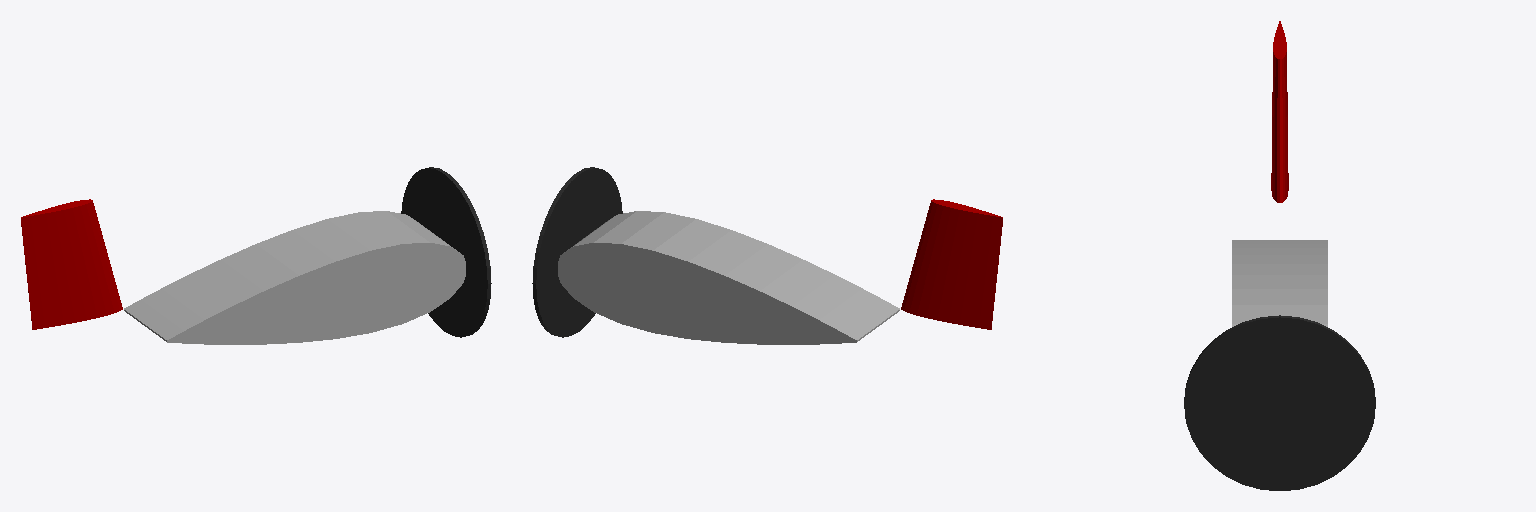
URDF robot description (drone_param):
<?xml version='1.0' encoding='utf-8'?>
<robot name="drone_param">
  <material name="grey">
    <color rgba="0.7 0.7 0.7 1" />
    </material>
  <material name="red">
    <color rgba="0.7 0 0 1" />
    </material>
  <material name="black">
    <color rgba="0.2 0.2 0.2 1" />
    </material>
  <link name="root_link">
    <inertial>
      <origin xyz="0 0 0" rpy="0 0 0" />
      <mass value="0" />
      <inertia ixx="0" ixy="0" ixz="0" iyy="0" iyz="0" izz="0" />
      </inertial>
    </link>
  <link name="fuselage">
    <inertial>
      <origin xyz="-0.2 0 -0.04" rpy="0 0 0" />
      <mass value="0.383814" />
      <inertia ixx="0.000841514" ixy="0" ixz="0" iyy="0.00102492" iyz="0" izz="0.000400406" />
      </inertial>
    <collision name="fuselage_collision_0">
      <origin xyz="-0.2 0 0.00245565348607" rpy="-1.5898372930676048 6.123233995736766e-17 -1.5707963267948968" />
      <geometry>
        <box size="0.025 0.0261920094864 0.1" />
        </geometry>
      </collision>
    <visual name="fuselage_visual_0">
      <origin xyz="0 0 0" rpy="0 0 0" />
      <geometry>
        <mesh filename="package://meshes/fuselage_only.stl" scale="0.000533415 0.001 0.001" />
        </geometry>
      <material name="grey" />
      </visual>
    </link>
  <joint name="fixed_joint_base_fuselage" type="fixed">
    <parent link="root_link" />
    <child link="fuselage" />
    <origin xyz="0 0 0" rpy="3.141592653589793 0 0" />
    </joint>
  <joint name="fixed_joint_aero_frame_fuselage" type="fixed">
    <parent link="fuselage" />
    <child link="aero_frame_fuselage" />
    <origin xyz="-0.2 0 -0.03" rpy="0 3.141592653589793 0" />
    </joint>
  <link name="aero_frame_fuselage">
    <inertial>
      <origin xyz="0 0 0" rpy="0 0 0" />
      <mass value="0" />
      <inertia ixx="0" ixy="0" ixz="0" iyy="0" iyz="0" izz="0" />
      </inertial>
    </link>
  <joint name="fixed_joint_prop_frame_fuselage_0" type="fixed">
    <parent link="fuselage" />
    <child link="prop_frame_fuselage_0" />
    <origin xyz="0 0 0" rpy="3.141592653589793 -1.5707963267948966 0" />
    </joint>
  <link name="prop_frame_fuselage_0">
    <inertial>
      <origin xyz="0 0 0" rpy="0 0 0" />
      <mass value="0.0314159" />
      <inertia ixx="6.28711e-05" ixy="0" ixz="0" iyy="6.28711e-05" iyz="0" izz="0.000125664" />
      </inertial>
    <visual name="prop_frame_fuselage_0_visual_0">
      <origin xyz="0 0 0" rpy="0 0 0" />
      <geometry>
        <cylinder radius="0.1" length="0.005" />
        </geometry>
      <material name="black" />
      </visual>
    <collision name="prop_frame_collision">
      <origin xyz="0 0 0" rpy="0 0 0" />
      <geometry>
        <box size="0.2 0.2 0.02" />
        </geometry>
      </collision>
    </link>
  <joint name="fixed_joint_right_wing" type="fixed">
    <parent link="fuselage" />
    <child link="fuselage_right_0" />
    <origin xyz="-0.15 0.05 -0.03" rpy="0 0 3.141592653589793" />
    </joint>
  <link name="fuselage_right_0">
    <inertial>
      <origin xyz="0 0 0" rpy="0 0 0" />
      <mass value="0.1" />
      <inertia ixx="3.22642e-06" ixy="0" ixz="0" iyy="3.22642e-06" iyz="0" izz="3.22642e-06" />
      </inertial>
    </link>
  <link name="fuselage_right_1">
    <inertial>
      <origin xyz="0 0 0" rpy="0 0 0" />
      <mass value="0.1" />
      <inertia ixx="3.22642e-06" ixy="0" ixz="0" iyy="3.22642e-06" iyz="0" izz="3.22642e-06" />
      </inertial>
    </link>
  <joint name="joint_0_sweep_right_wing" type="revolute">
    <parent link="fuselage_right_0" />
    <child link="fuselage_right_1" />
    <origin xyz="0 0 0" rpy="0 0 0" />
    <axis xyz="0 0 1" />
    <limit lower="-0.28" upper="0.28" effort="3" velocity="3.665191429" />
    <dynamics damping="0.2" friction="0.05" />
    </joint>
  <joint name="joint_1_twist_right_wing" type="revolute">
    <parent link="fuselage_right_1" />
    <child link="right_wing" />
    <origin xyz="0 -0.05 0" rpy="0 0 0" />
    <axis xyz="0 1 0" />
    <limit lower="-0.35" upper="0.35" effort="1.2" velocity="3.665191429" />
    <dynamics damping="0.2" friction="0.05" />
    </joint>
  <link name="right_wing">
    <inertial>
      <origin xyz="0 0 0" rpy="0 0 0" />
      <mass value="0" />
      <inertia ixx="0" ixy="0" ixz="0" iyy="0" iyz="0" izz="0" />
      </inertial>
    <visual name="right_wing_visual">
      <origin xyz="0.00285714 0 0" rpy="0 0 0" />
      <geometry>
        <mesh filename="package://meshes/wing0009.stl" scale="0.2 0.500029 0.142857" />
        </geometry>
      <material name="red" />
      </visual>
    </link>
  <joint name="fixed_joint_right_wing_prop" type="fixed">
    <parent link="right_wing" />
    <child link="right_wing_prop" />
    <origin xyz="0 -0.025 0" rpy="0 0 0" />
    </joint>
  <link name="right_wing_prop">
    <inertial>
      <origin xyz="0.02142855 0 0" rpy="0 0 0" />
      <mass value="0.00256603" />
      <inertia ixx="2.93915e-06" ixy="0" ixz="0" iyy="3.62149e-07" iyz="0" izz="2.65979e-06" />
      </inertial>
    <collision name="right_wing_prop_collision">
      <origin xyz="0.03571425 0 -0.000421042" rpy="1.570796327 -1.558922022 0" />
      <geometry>
        <box size="0.017962225 0.142857 0.05" />
        </geometry>
      </collision>
    </link>
  <joint name="fixed_joint_aero_frame_right_wing_prop" type="fixed">
    <parent link="right_wing_prop" />
    <child link="aero_frame_right_wing_prop" />
    <origin xyz="0.02142855 0 0" rpy="3.141592654 0 0" />
    </joint>
  <link name="aero_frame_right_wing_prop">
    <inertial>
      <origin xyz="0 0 0" rpy="0 0 0" />
      <mass value="0" />
      <inertia ixx="0" ixy="0" ixz="0" iyy="0" iyz="0" izz="0" />
      </inertial>
    </link>
  <joint name="fixed_joint_right_wing_free" type="fixed">
    <parent link="right_wing" />
    <child link="right_wing_free" />
    <origin xyz="0 -0.275 0" rpy="0 0 0" />
    </joint>
  <link name="right_wing_free">
    <inertial>
      <origin xyz="0.02142855 0 0" rpy="0 0 0" />
      <mass value="0.0230943" />
      <inertia ixx="0.000257395" ixy="0" ixz="0" iyy="0.000234202" iyz="0" izz="2.39381e-05" />
      </inertial>
    <collision name="right_wing_free_collision">
      <origin xyz="0.03571425 0 -0.000421042" rpy="1.570796327 -1.558922022 0" />
      <geometry>
        <box size="0.017962225 0.142857 0.45" />
        </geometry>
      </collision>
    </link>
  <joint name="fixed_joint_aero_frame_right_wing_free" type="fixed">
    <parent link="right_wing_free" />
    <child link="aero_frame_right_wing_free" />
    <origin xyz="0.02142855 0 0" rpy="3.141592654 0 0" />
    </joint>
  <link name="aero_frame_right_wing_free">
    <inertial>
      <origin xyz="0 0 0" rpy="0 0 0" />
      <mass value="0" />
      <inertia ixx="0" ixy="0" ixz="0" iyy="0" iyz="0" izz="0" />
      </inertial>
    </link>
  <joint name="fixed_joint_left_wing" type="fixed">
    <parent link="fuselage" />
    <child link="fuselage_left_0" />
    <origin xyz="-0.15 -0.05 -0.03" rpy="-0 0 3.141592653589793" />
    </joint>
  <link name="fuselage_left_0">
    <inertial>
      <origin xyz="0 0 0" rpy="0 0 0" />
      <mass value="0.1" />
      <inertia ixx="3.22642e-06" ixy="0" ixz="0" iyy="3.22642e-06" iyz="0" izz="3.22642e-06" />
      </inertial>
    </link>
  <link name="fuselage_left_1">
    <inertial>
      <origin xyz="0 0 0" rpy="0 0 0" />
      <mass value="0.1" />
      <inertia ixx="3.22642e-06" ixy="0" ixz="0" iyy="3.22642e-06" iyz="0" izz="3.22642e-06" />
      </inertial>
    </link>
  <joint name="joint_0_sweep_left_wing" type="revolute">
    <parent link="fuselage_left_0" />
    <child link="fuselage_left_1" />
    <origin xyz="0 0 0" rpy="0 0 0" />
    <axis xyz="0 0 1" />
    <limit lower="-0.28" upper="0.28" effort="3" velocity="3.665191429" />
    <dynamics damping="0.2" friction="0.05" />
    </joint>
  <joint name="joint_1_twist_left_wing" type="revolute">
    <parent link="fuselage_left_1" />
    <child link="left_wing" />
    <origin xyz="0 0.05 0" rpy="0 0 0" />
    <axis xyz="0 1 0" />
    <limit lower="-0.35" upper="0.35" effort="1.2" velocity="3.665191429" />
    <dynamics damping="0.2" friction="0.05" />
    </joint>
  <link name="left_wing">
    <inertial>
      <origin xyz="0 0 0" rpy="0 0 0" />
      <mass value="0" />
      <inertia ixx="0" ixy="0" ixz="0" iyy="0" iyz="0" izz="0" />
      </inertial>
    <visual name="left_wing_visual">
      <origin xyz="0.00285714 0 0" rpy="3.141592654 0 0" />
      <geometry>
        <mesh filename="package://meshes/wing0009.stl" scale="0.2 0.500029 0.142857" />
        </geometry>
      <material name="red" />
      </visual>
    </link>
  <joint name="fixed_joint_left_wing_prop" type="fixed">
    <parent link="left_wing" />
    <child link="left_wing_prop" />
    <origin xyz="0 0.025 0" rpy="0 0 0" />
    </joint>
  <link name="left_wing_prop">
    <inertial>
      <origin xyz="0.02142855 0 0" rpy="0 0 0" />
      <mass value="0.00256603" />
      <inertia ixx="2.93915e-06" ixy="0" ixz="0" iyy="3.62149e-07" iyz="0" izz="2.65979e-06" />
      </inertial>
    <collision name="left_wing_prop_collision">
      <origin xyz="0.03571425 0 -0.000421042" rpy="1.570796327 -1.558922022 0" />
      <geometry>
        <box size="0.017962225 0.142857 0.05" />
        </geometry>
      </collision>
    </link>
  <joint name="fixed_joint_aero_frame_left_wing_prop" type="fixed">
    <parent link="left_wing_prop" />
    <child link="aero_frame_left_wing_prop" />
    <origin xyz="0.02142855 0 0" rpy="3.141592654 0 0" />
    </joint>
  <link name="aero_frame_left_wing_prop">
    <inertial>
      <origin xyz="0 0 0" rpy="0 0 0" />
      <mass value="0" />
      <inertia ixx="0" ixy="0" ixz="0" iyy="0" iyz="0" izz="0" />
      </inertial>
    </link>
  <joint name="fixed_joint_left_wing_free" type="fixed">
    <parent link="left_wing" />
    <child link="left_wing_free" />
    <origin xyz="0 0.275 0" rpy="0 0 0" />
    </joint>
  <link name="left_wing_free">
    <inertial>
      <origin xyz="0.02142855 0 0" rpy="0 0 0" />
      <mass value="0.0230943" />
      <inertia ixx="0.000257395" ixy="0" ixz="0" iyy="0.000234202" iyz="0" izz="2.39381e-05" />
      </inertial>
    <collision name="left_wing_free_collision">
      <origin xyz="0.03571425 0 -0.000421042" rpy="1.570796327 -1.558922022 0" />
      <geometry>
        <box size="0.017962225 0.142857 0.45" />
        </geometry>
      </collision>
    </link>
  <joint name="fixed_joint_aero_frame_left_wing_free" type="fixed">
    <parent link="left_wing_free" />
    <child link="aero_frame_left_wing_free" />
    <origin xyz="0.02142855 0 0" rpy="3.141592654 0 0" />
    </joint>
  <link name="aero_frame_left_wing_free">
    <inertial>
      <origin xyz="0 0 0" rpy="0 0 0" />
      <mass value="0" />
      <inertia ixx="0" ixy="0" ixz="0" iyy="0" iyz="0" izz="0" />
      </inertial>
    </link>
  <joint name="elevator_pitch_joint" type="revolute">
    <parent link="fuselage" />
    <child link="elevator_hinge" />
    <origin xyz="-0.43 0 0" rpy="0 0 0" />
    <axis xyz="0 1 0" />
    <limit lower="-0.35" upper="0.35" effort="1.0" velocity="3.665191429" />
    <dynamics damping="0.2" friction="0.05" />
    </joint>
  <link name="elevator_hinge">
    <inertial>
      <origin xyz="0 0 0" rpy="0 0 0" />
      <mass value="0" />
      <inertia ixx="0" ixy="0" ixz="0" iyy="0" iyz="0" izz="0" />
      </inertial>
    <visual>
      <origin xyz="0 0 0" rpy="0 0 0" />
      <geometry>
        <mesh filename="package://meshes/elevator.stl" scale="0.0007 0.001372 0.0011111" />
        </geometry>
      <material name="grey" />
      </visual>
    </link>
  <joint name="fixed_joint_elevator_left" type="fixed">
    <parent link="elevator_hinge" />
    <child link="elevator_left" />
    <origin xyz="0 0.1 0" rpy="0 0 0" />
    </joint>
  <link name="elevator_left">
    <inertial>
      <origin xyz="0.0496 0 0" rpy="0 0 0" />
      <mass value="0.00433816" />
      <inertia ixx="7.72193e-06" ixy="0" ixz="0" iyy="2.20895e-06" iyz="0" izz="5.59271e-06" />
      </inertial>
    <collision>
      <origin xyz="-0.04 0 -0.0226291863" rpy="1.5763749568 -1.5318707859 3.1359944429" />
      <geometry>
        <box size="0.0135567616 0.16 0.1" />
        </geometry>
      </collision>
    </link>
  <joint name="fixed_joint_aero_frame_elevator_left" type="fixed">
    <parent link="elevator_left" />
    <child link="aero_frame_elevator_left" />
    <origin xyz="-0.0496 0 0" rpy="0 3.141592654 0" />
    </joint>
  <link name="aero_frame_elevator_left">
    <inertial>
      <origin xyz="0 0 0" rpy="0 0 0" />
      <mass value="0" />
      <inertia ixx="0" ixy="0" ixz="0" iyy="0" iyz="0" izz="0" />
      </inertial>
    </link>
  <joint name="fixed_joint_elevator_right" type="fixed">
    <parent link="elevator_hinge" />
    <child link="elevator_right" />
    <origin xyz="0 -0.1 0" rpy="0 0 0" />
    </joint>
  <link name="elevator_right">
    <inertial>
      <origin xyz="0.0496 0 0" rpy="0 0 0" />
      <mass value="0.00433816" />
      <inertia ixx="7.72193e-06" ixy="0" ixz="0" iyy="2.20895e-06" iyz="0" izz="5.59271e-06" />
      </inertial>
    <collision>
      <origin xyz="-0.04 0 -0.0226291863" rpy="1.5763749568 -1.5318707859 3.1359944429" />
      <geometry>
        <box size="0.0135567616 0.16 0.1" />
        </geometry>
      </collision>
    </link>
  <joint name="fixed_joint_aero_frame_elevator_right" type="fixed">
    <parent link="elevator_right" />
    <child link="aero_frame_elevator_right" />
    <origin xyz="-0.0496 0 0" rpy="0 3.141592654 0" />
    </joint>
  <link name="aero_frame_elevator_right">
    <inertial>
      <origin xyz="0 0 0" rpy="0 0 0" />
      <mass value="0" />
      <inertia ixx="0" ixy="0" ixz="0" iyy="0" iyz="0" izz="0" />
      </inertial>
    </link>
  <joint name="rudder_yaw_joint" type="revolute">
    <parent link="elevator_hinge" />
    <child link="rudder" />
    <origin xyz="0 0 0" rpy="0 0 0" />
    <axis xyz="0 0 1" />
    <limit lower="-0.35" upper="0.35" effort="1.0" velocity="3.665191429" />
    <dynamics damping="0.2" friction="0.05" />
    </joint>
  <link name="rudder">
    <inertial>
      <origin xyz="-0.0496 0 -0.08" rpy="0 0 0" />
      <mass value="0.00694106" />
      <inertia ixx="1.77691e-05" ixy="0" ixz="0" iyy="8.94834e-06" iyz="0" izz="8.94834e-06" />
      </inertial>
    <collision name="rudder_collision_0">
      <origin xyz="-0.04 0 -0.104994470816" rpy="0.10626955814138643 0.008780081131392076 1.5717328981686811" />
      <geometry>
        <box size="0.0135567616 0.16 0.16" />
        </geometry>
      </collision>
    <visual name="rudder_visual_0">
      <origin xyz="0 0 0" rpy="0 0 0" />
      <geometry>
        <mesh filename="package://meshes/rudder.stl" scale="0.0008 0.0013409 0.000978154" />
        </geometry>
      <material name="red" />
      </visual>
    </link>
  <joint name="fixed_joint_aero_frame_rudder" type="fixed">
    <parent link="rudder" />
    <child link="aero_frame_rudder" />
    <origin xyz="-0.0496 0 -0.08" rpy="0 3.141592653589793 0" />
    </joint>
  <link name="aero_frame_rudder">
    <inertial>
      <origin xyz="0 0 0" rpy="0 0 0" />
      <mass value="0" />
      <inertia ixx="0" ixy="0" ixz="0" iyy="0" iyz="0" izz="0" />
      </inertial>
    </link>
  <metadata type="genes" order="wing_span wing_chord wing_attach_x fus_cg_x fus_length elevator_span elevator_chord rudder_span rudder_chord density_scale dihedral_deg prop_radius hinge_le_ratio sweep_multi twist_multi cl_alpha_2d alpha0_2d" value="0.5 0.142857 -0.15 -0.2 0.4 0.2 0.16 0.16 0.16 1 0 0.1 0.16 2.5 2 2 -1" />
  <!--genes wing_span wing_chord wing_attach_x fus_cg_x fus_length elevator_span elevator_chord rudder_span rudder_chord density_scale dihedral_deg prop_radius hinge_le_ratio sweep_multi twist_multi cl_alpha_2d alpha0_2d = 0.5 0.142857 -0.15 -0.2 0.4 0.2 0.16 0.16 0.16 1 0 0.1 0.16 2.5 2 2 -1-->
  </robot>

--- What the picture shows (computed from the rendered views, not written in the file) ---
3 views of the same robot in one strip: view 1: azimuth 30°, elevation 25°; view 2: azimuth 150°, elevation 25°; view 3: azimuth 270°, elevation 25° (orthographic).
Model drone_param with 25 links and 24 joints (6 revolute, 18 fixed), rooted at root_link, posed all joints at 0.
Visible links, largest first — view 1: fuselage, rudder, prop_frame_fuselage_0; view 2: fuselage, rudder, prop_frame_fuselage_0; view 3: prop_frame_fuselage_0, fuselage, rudder.
Link boxes in pixels (x1,y1,x2,y2): fuselage: [124, 211, 465, 344]; rudder: [21, 199, 122, 329]; prop_frame_fuselage_0: [401, 167, 491, 337]; fuselage: [558, 211, 899, 344]; rudder: [901, 199, 1002, 329]; prop_frame_fuselage_0: [532, 167, 622, 337]; prop_frame_fuselage_0: [1184, 315, 1375, 490]; fuselage: [1232, 240, 1327, 326]; rudder: [1271, 21, 1288, 202].
Bounding box of the posed robot: 0.5685 × 0.2 × 0.2761 m (x, y, z).
Meshes: 4 distinct files referenced, 2 mesh visuals loaded (2 binary STL); not drawn: 3 (reference not matched to a file when rendering).